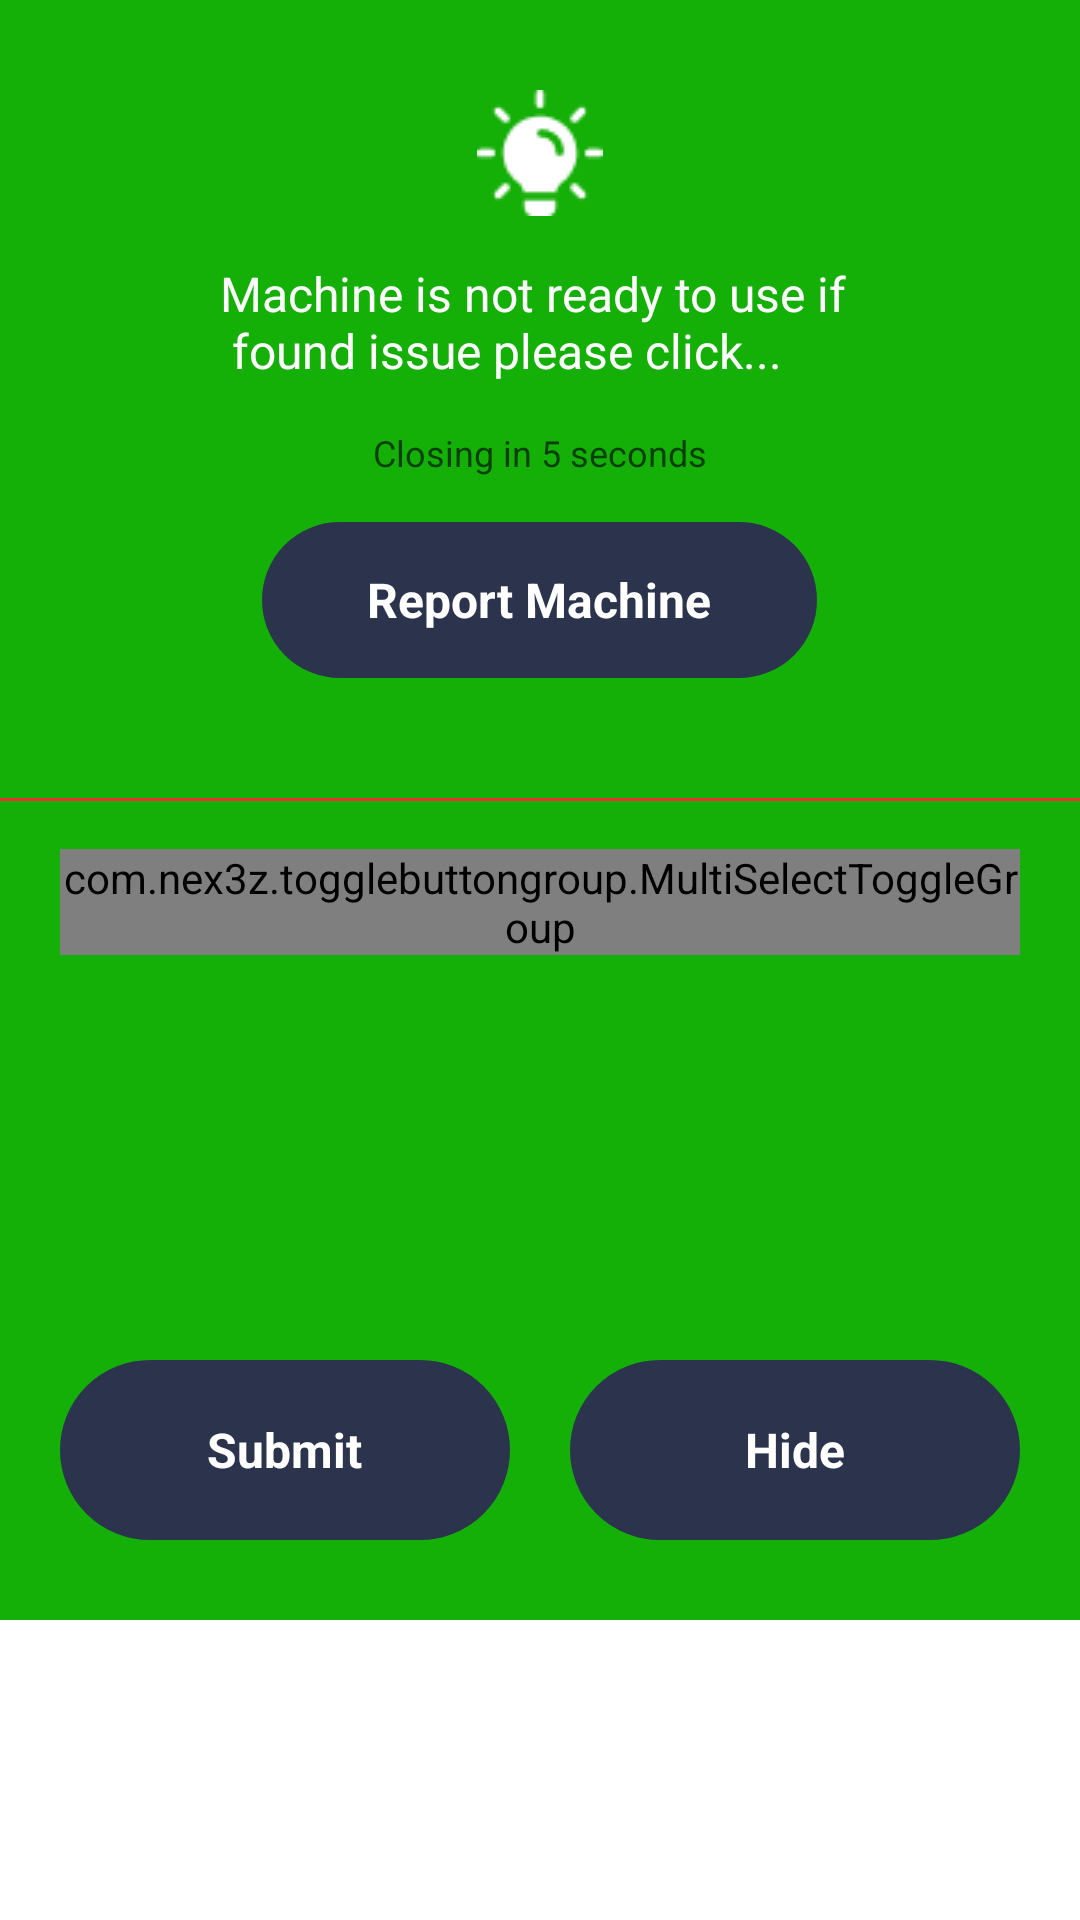

Named icons in this screenshot (1080×1920) and their centers, point (x, y):
lamp: point (540, 153)
